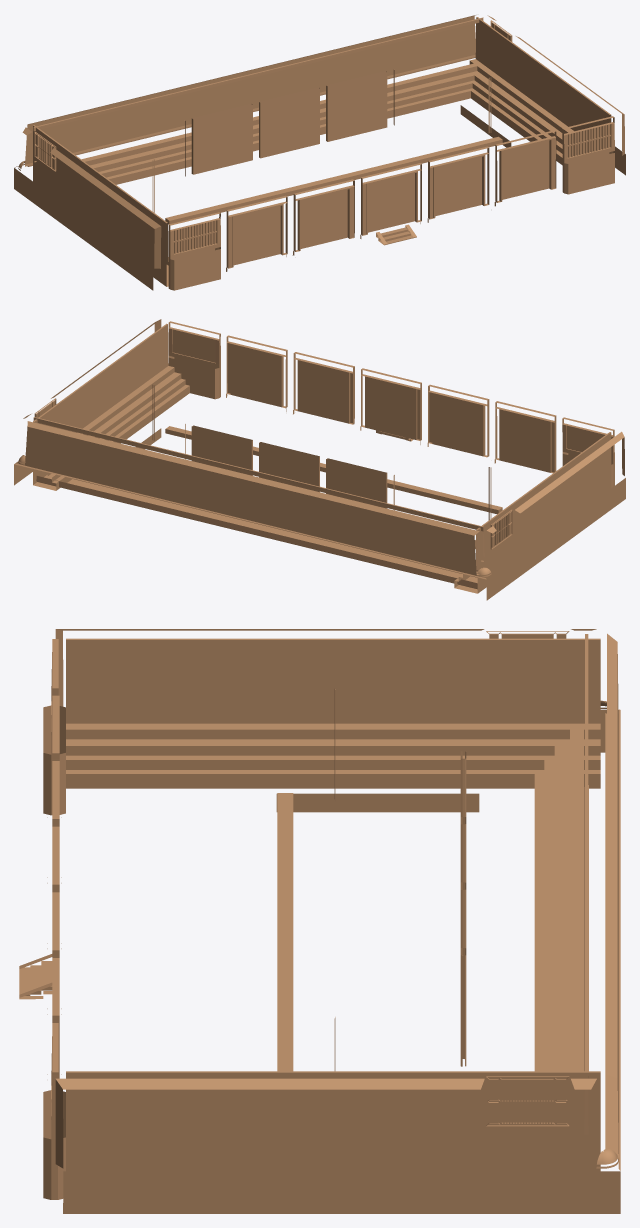
3 renders of one model, top to bottom at view 1: azimuth 30°, elevation 25°; view 2: azimuth 150°, elevation 25°; view 3: azimuth 270°, elevation 25°, orthographic. The views are drawn at different scales.
Parts seen in each view (by area): view 1: Layer_7; view 2: Layer_7; view 3: Layer_7.
Boxes of the visible parts, box(x1,y1,x2,y2) form: Layer_7: box(14, 15, 625, 290); Layer_7: box(14, 319, 625, 600); Layer_7: box(19, 629, 620, 1213).
Bounding box in the file's own units: 10 × 1.31 × 5.51.
